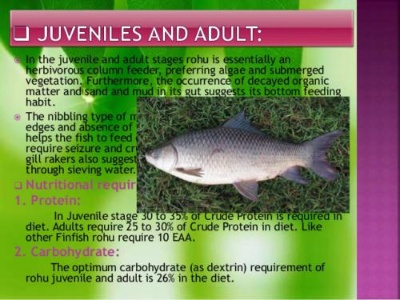rohu: (141, 109, 341, 205)
